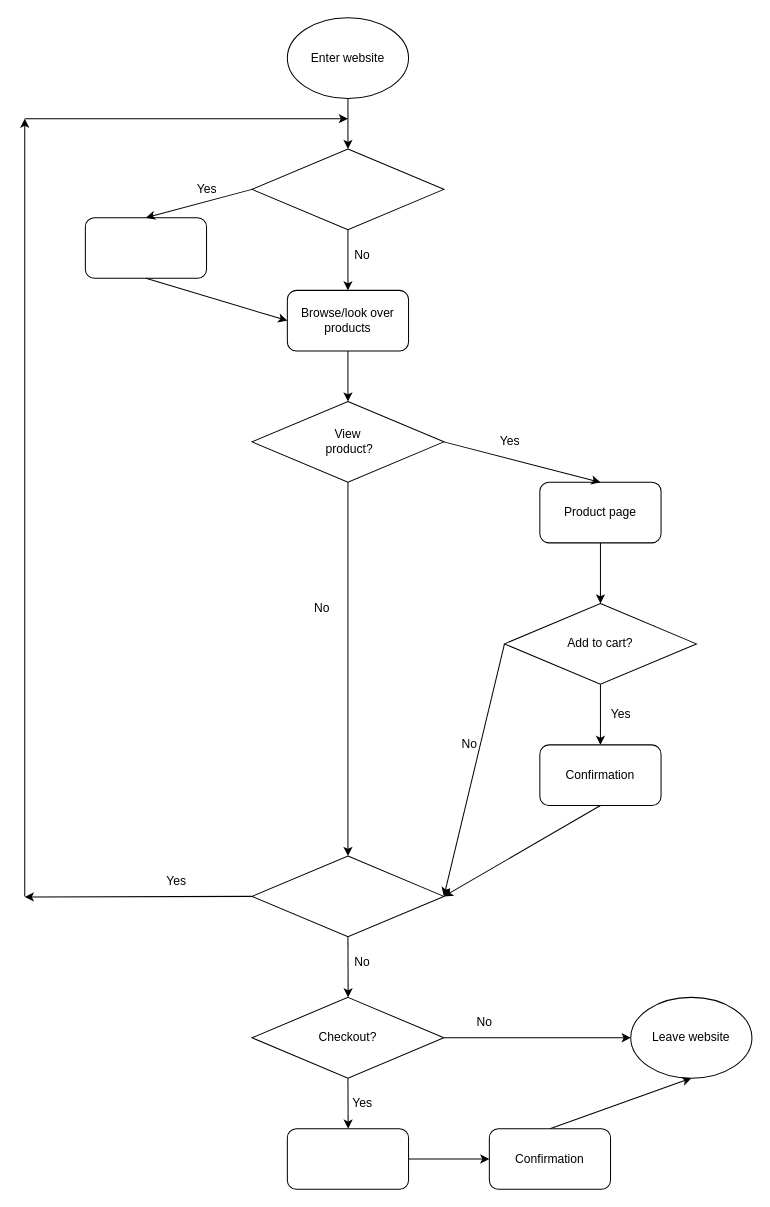
Some shapes in this 770 by 1207 pixel diagram are drawn without their labels. Here are the shapes that lost their labels. From the top down, the centre of each, then its label:
(x=347, y=189): Search for product?
(x=145, y=247): Search input
(x=347, y=896): Continue shopping?
(x=347, y=1158): Payment
